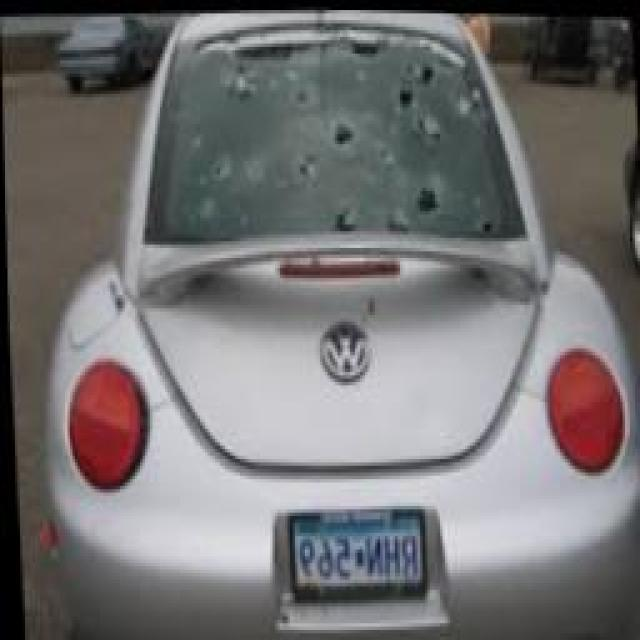Windshield: (128, 3, 541, 271)
